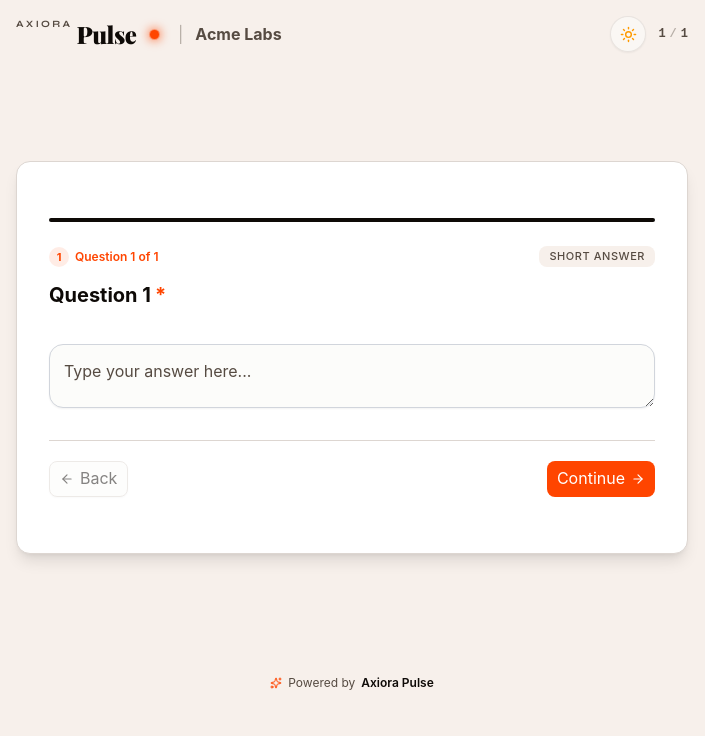
it: PublicSurveyPage › shows the thank-you screen once the submission succeeds
Type "My Answer" into the text box with placeholder "Type your answer here..." at (352, 376), box [49, 344, 655, 408]
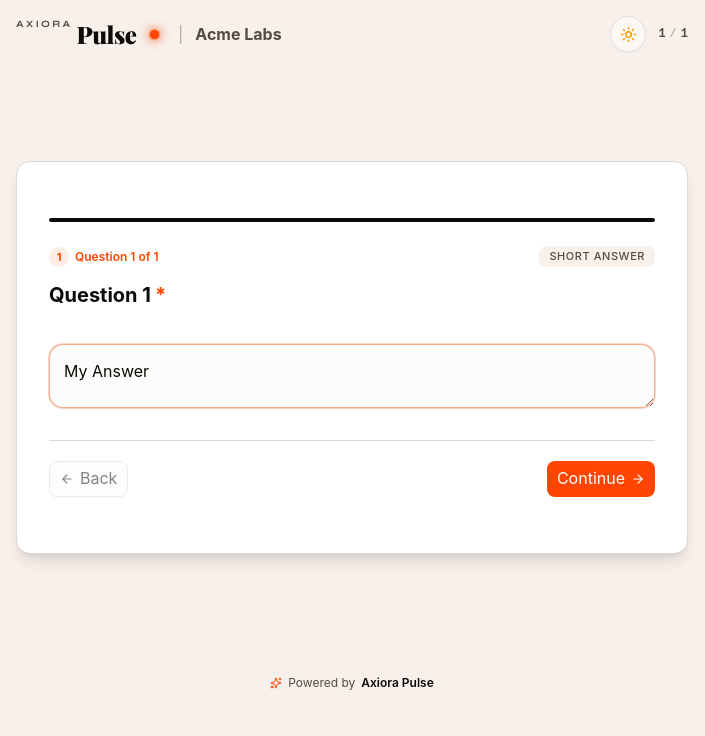
Click the button "Continue" at (601, 479), box [547, 461, 655, 497]
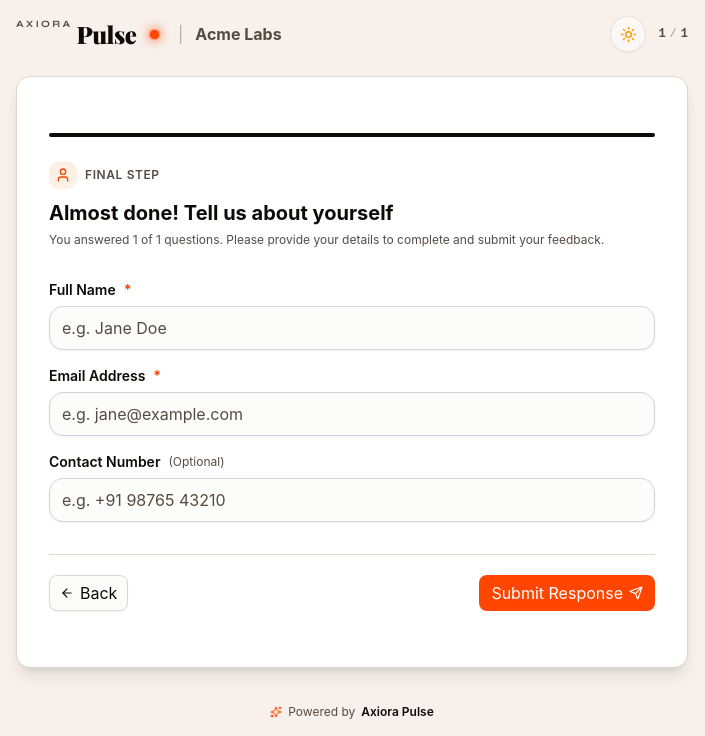
Type "Bob Builder" into the field labelled "Full Name *" at (352, 328), box [49, 306, 655, 350]
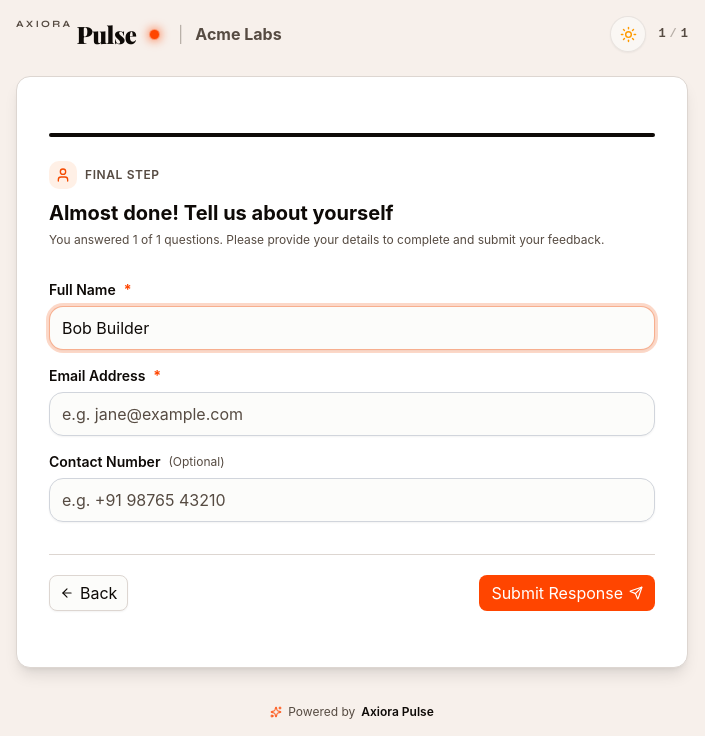
Type "bob@example.test" into the field labelled "Email Address *" at (352, 414), box [49, 392, 655, 436]
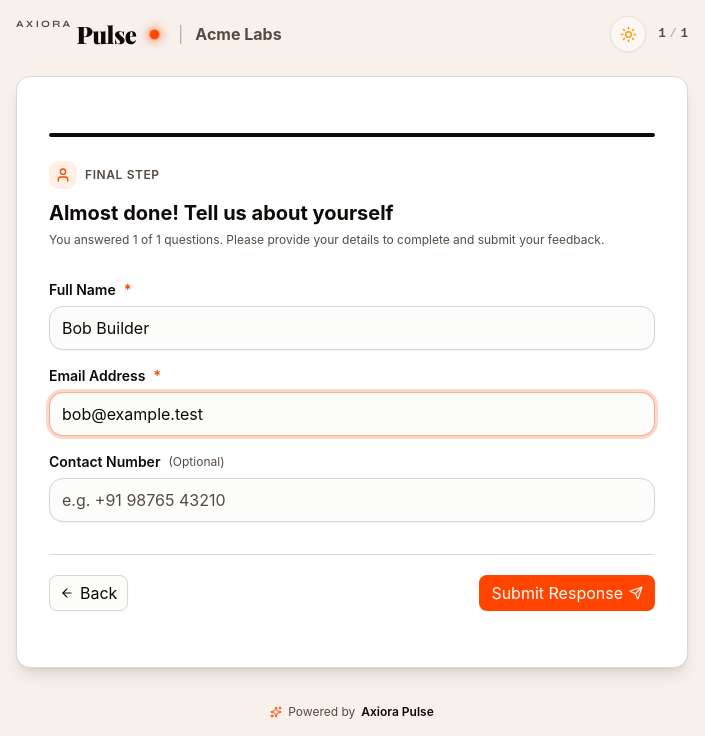
Click the button "Submit Response" at (567, 593), box [479, 575, 655, 611]
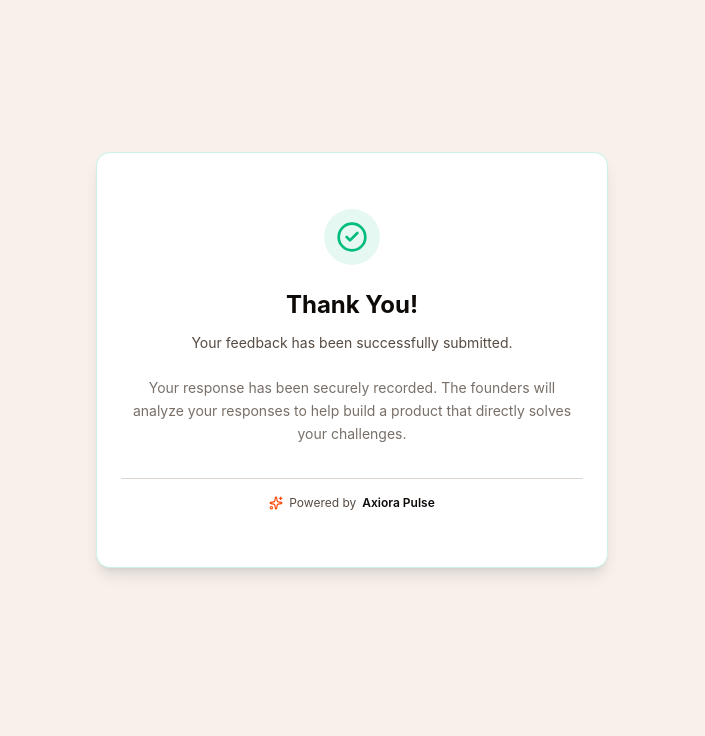
Check: the text "Thank You!" is shown, box [286, 289, 418, 321]
Check: the button "Submit Response" is gone
